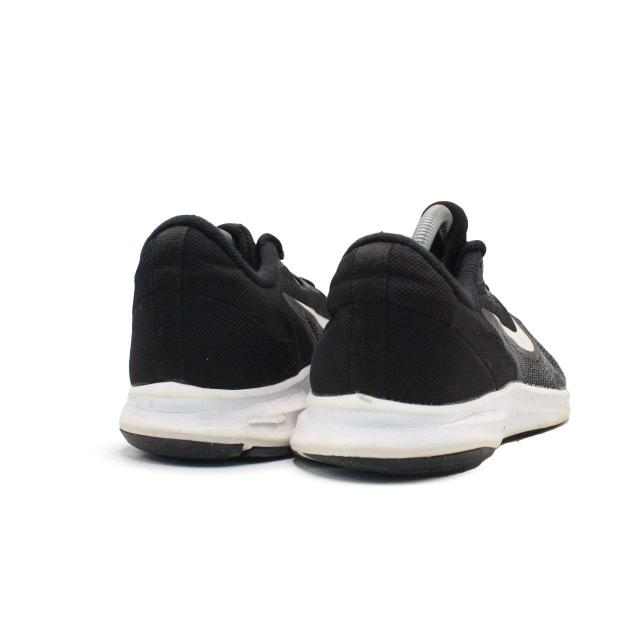heel: (308, 233, 507, 405), (127, 217, 312, 387)
midsole: (290, 382, 571, 481), (114, 366, 313, 458)
